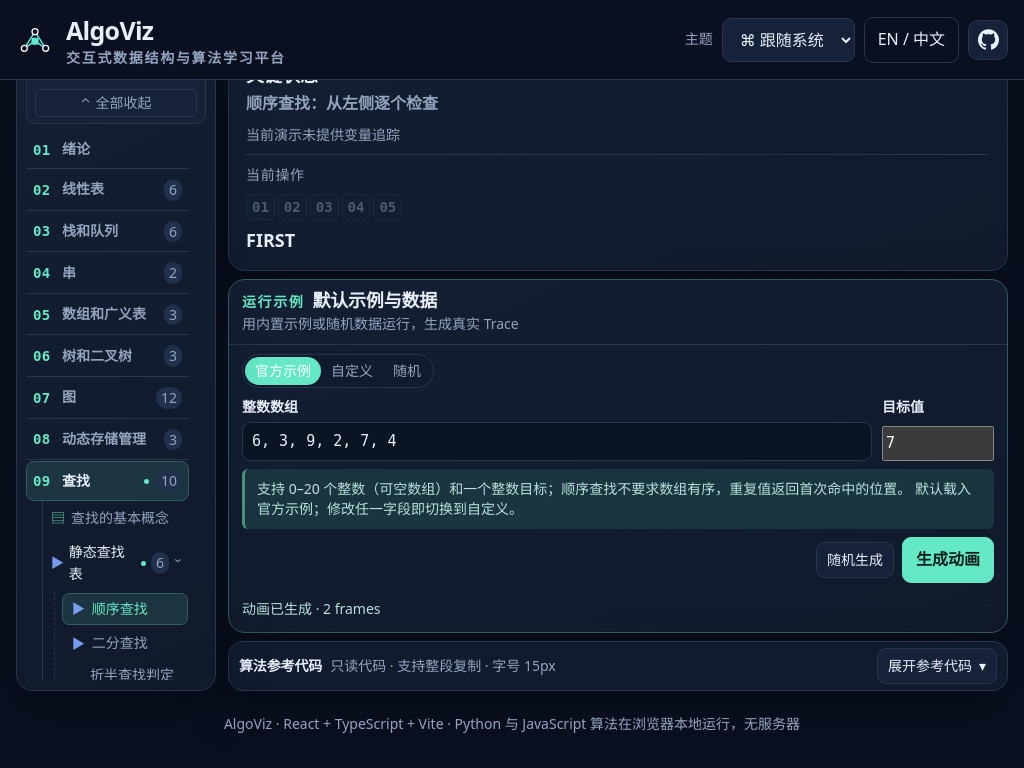
Test: INPUT-03 — linear search and hash operation inputs › keeps unsorted duplicate linear input unchanged and returns it to the executor
Earlier steps of the test are not shown.
Later steps or results of the test are not shown.
(page scrolled)
Expected: the element with test id "guided-input" has attribute data-algorithm="linear", left=242, top=354, right=994, bottom=620
Type "6, 3, 7, 3, 9" into the text box with test id "run-input" at x=557, y=441, box left=242, top=422, right=872, bottom=461
(page scrolled)
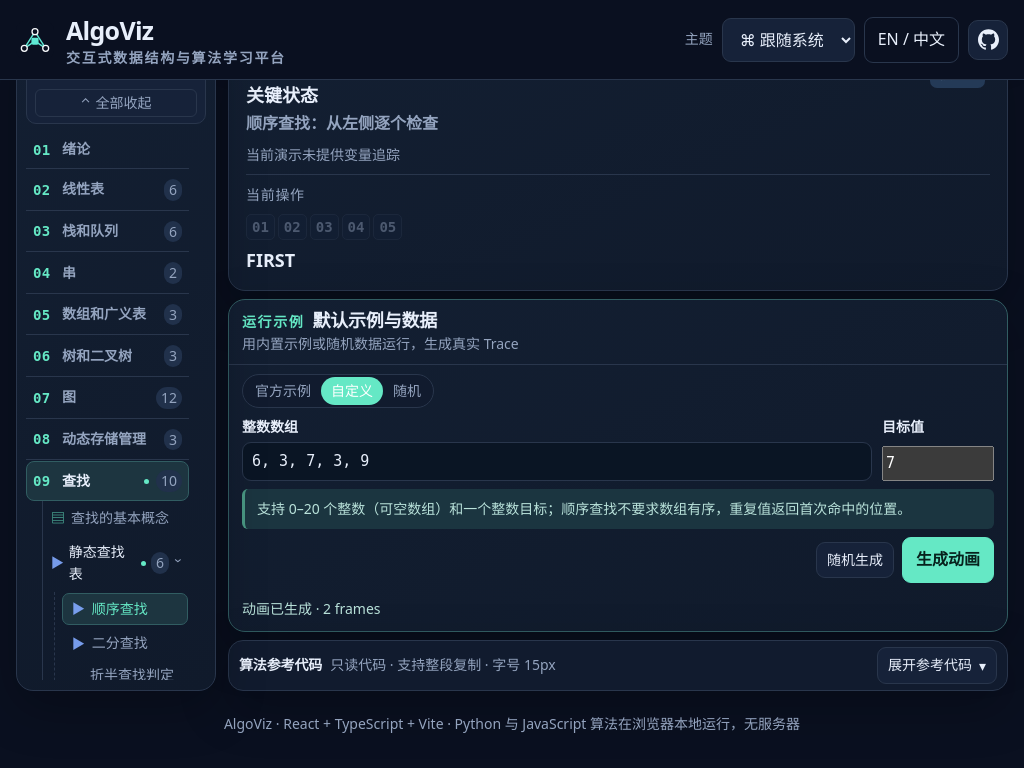
Type "3" into the field with test id "linear-target" at x=938, y=463, box left=882, top=446, right=994, bottom=481
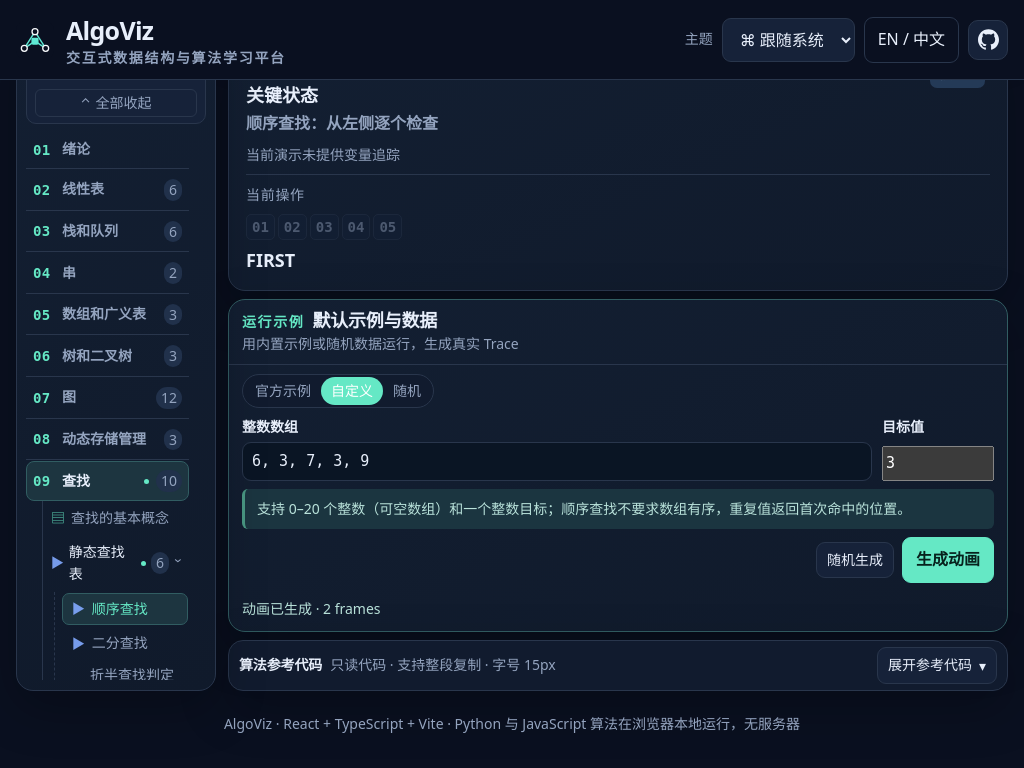
Expected: the button with test id "guided-mode-custom" is pressed, left=321, top=377, right=383, bottom=406
